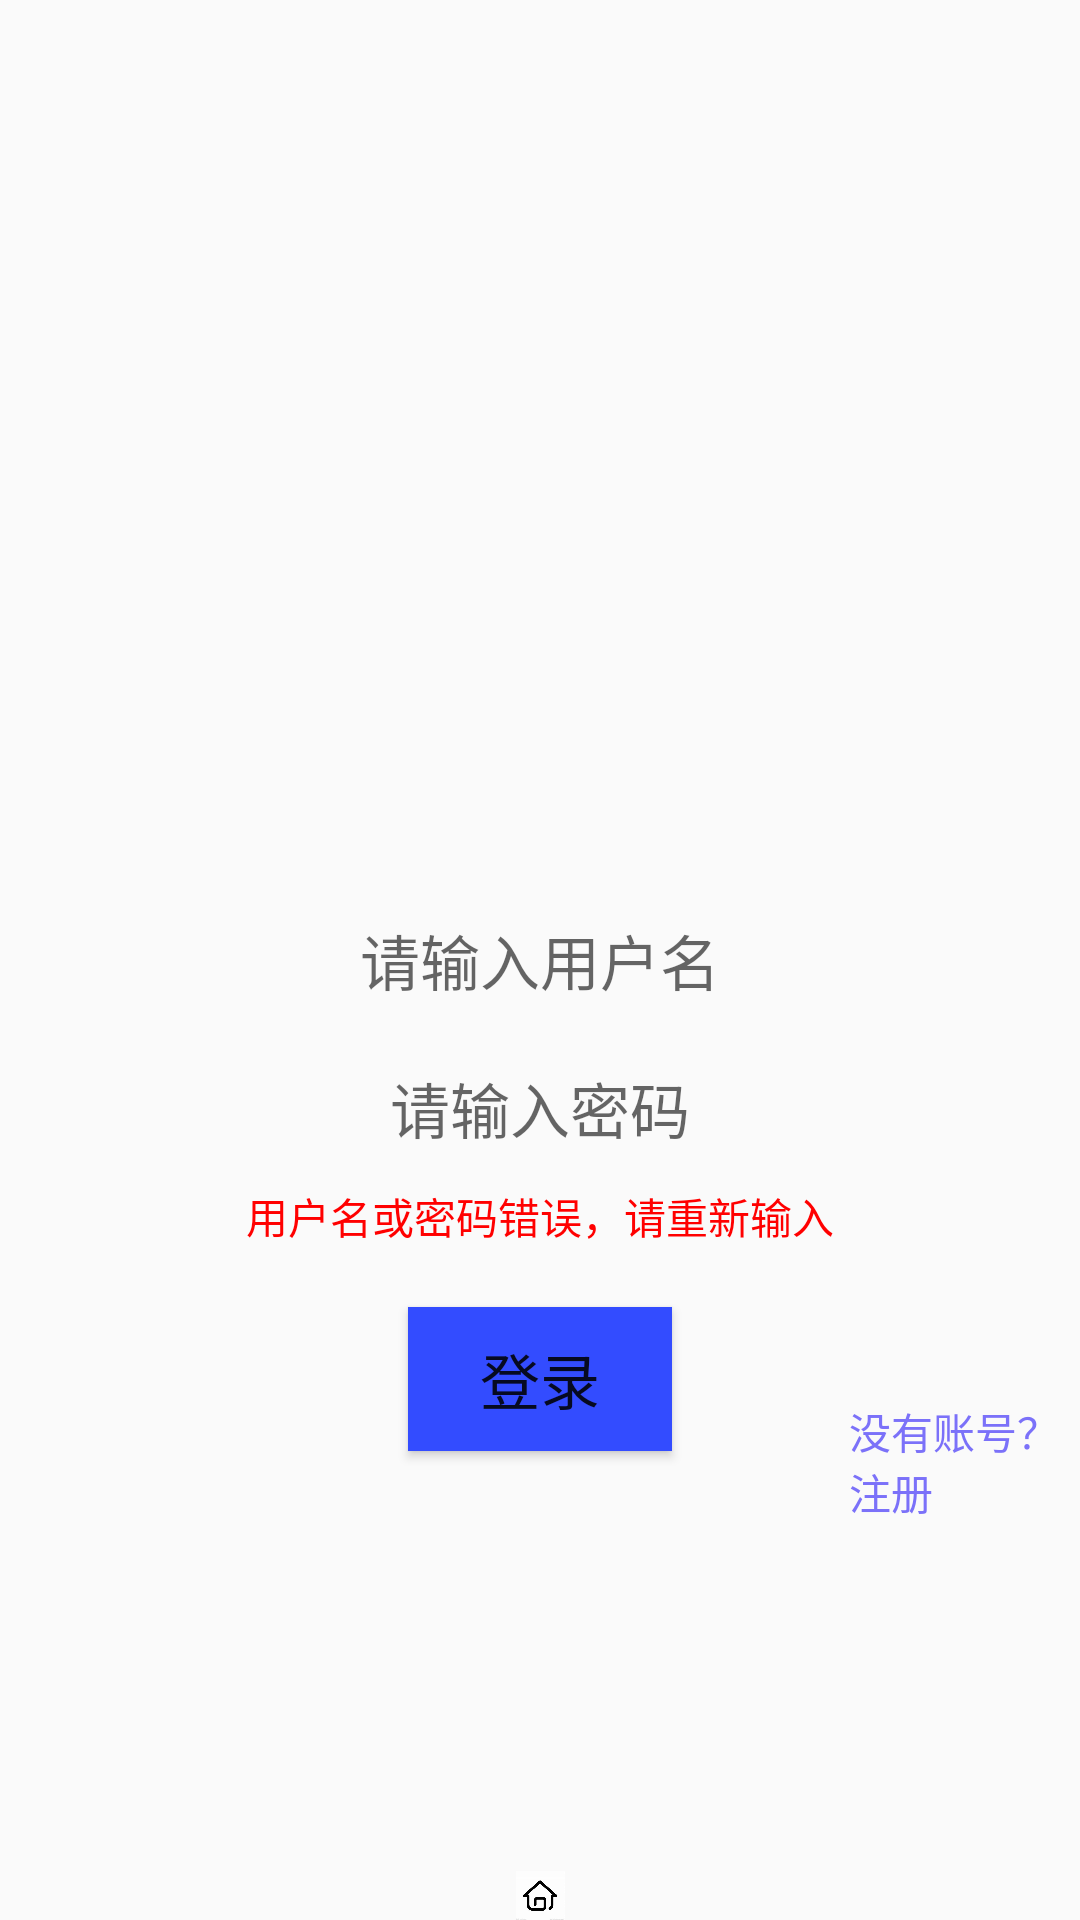

Icon click points for this 1080px x 1920px phone screenshot, format [x,y]:
home: [543,1900]
